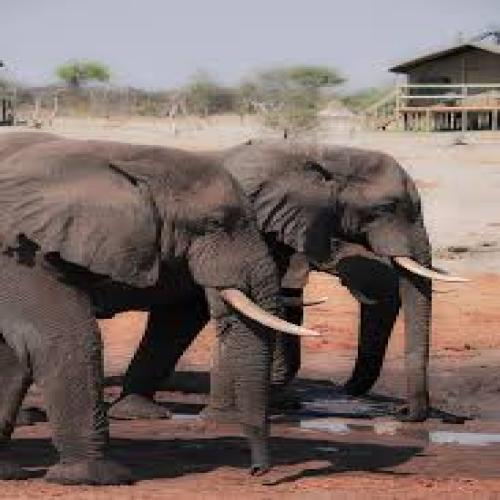asian_elephant-endangered: (0, 133, 325, 486), (199, 147, 465, 420)
